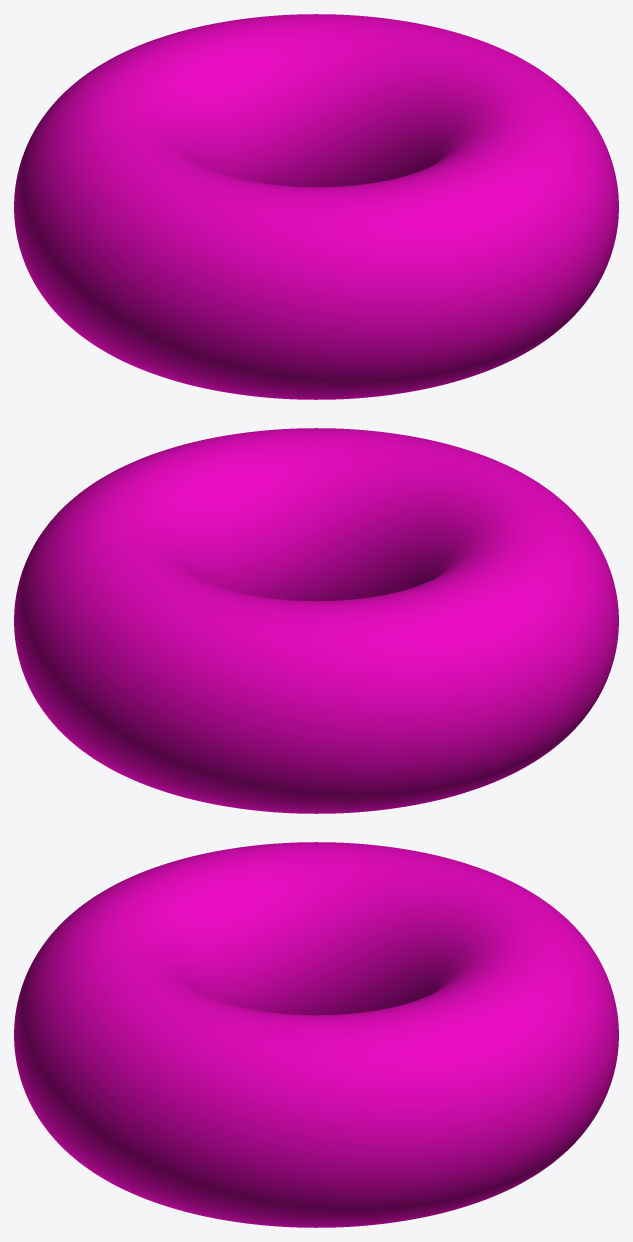
The picture shows the model from 3 angles, top to bottom: view 1: azimuth 30°, elevation 25°; view 2: azimuth 150°, elevation 25°; view 3: azimuth 270°, elevation 25°; orthographic projection.
Visible parts, largest first — view 1: Torus; view 2: Torus; view 3: Torus.
Boxes of the visible parts, box(x1,y1,x2,y2) form: Torus: box(14, 14, 618, 399); Torus: box(14, 428, 618, 813); Torus: box(14, 842, 618, 1227).
Size of the model in its own units: 2.95 by 1.06 by 2.95.
